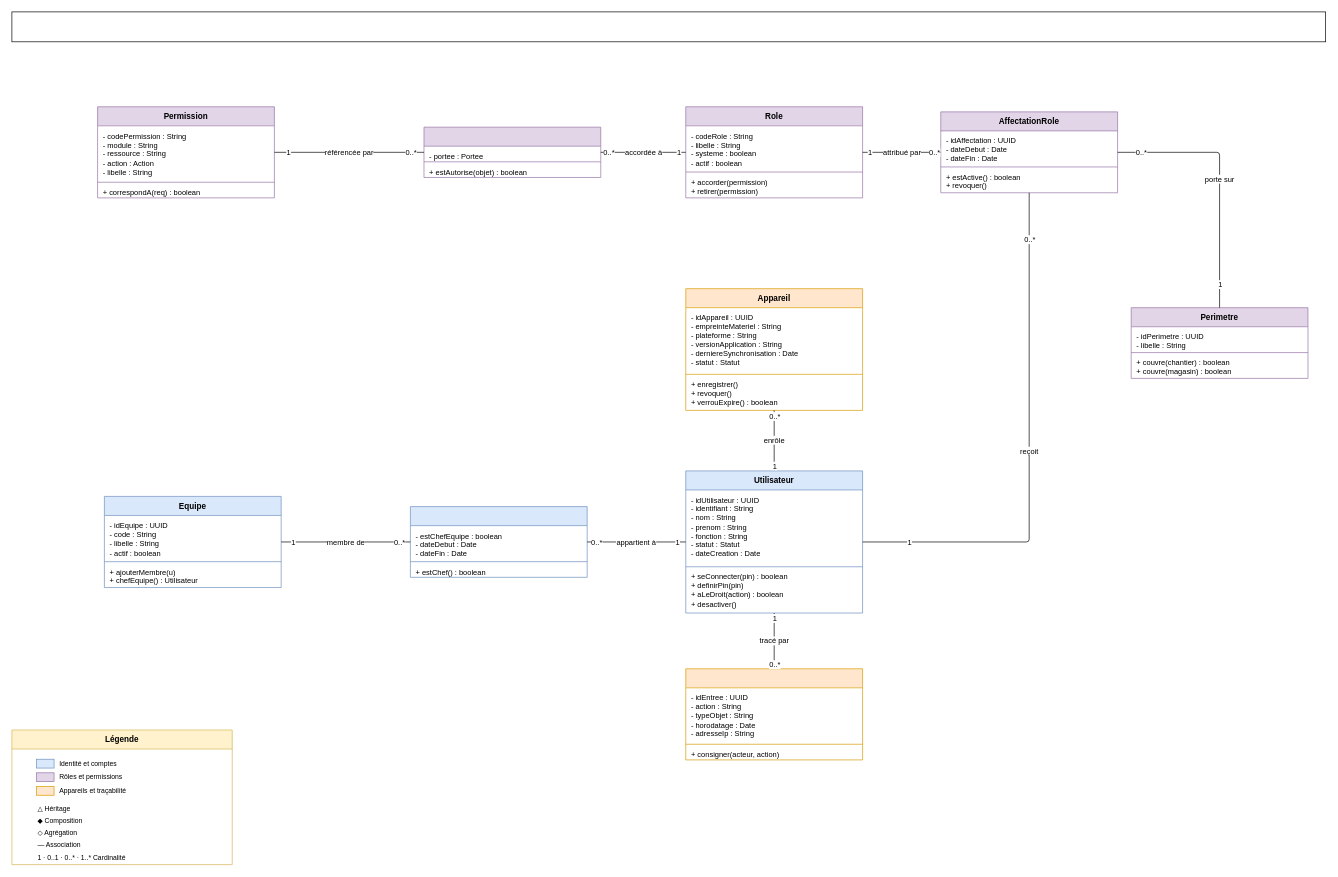
The diagram is 1338 pixels wide and 877 high, and some of its shapes have lost their labels. The shapes that lost their labels are listed below. From the top down, each one's box as (x1, y1, x2, y2) in pixels, then its label:
(11, 11, 1326, 42): Diagramme de classes 1 — Accès, droits et traçabilité
(423, 126, 601, 177): DroitAccorde
(410, 506, 587, 577): MembreEquipe
(685, 668, 863, 760): JournalAudit
